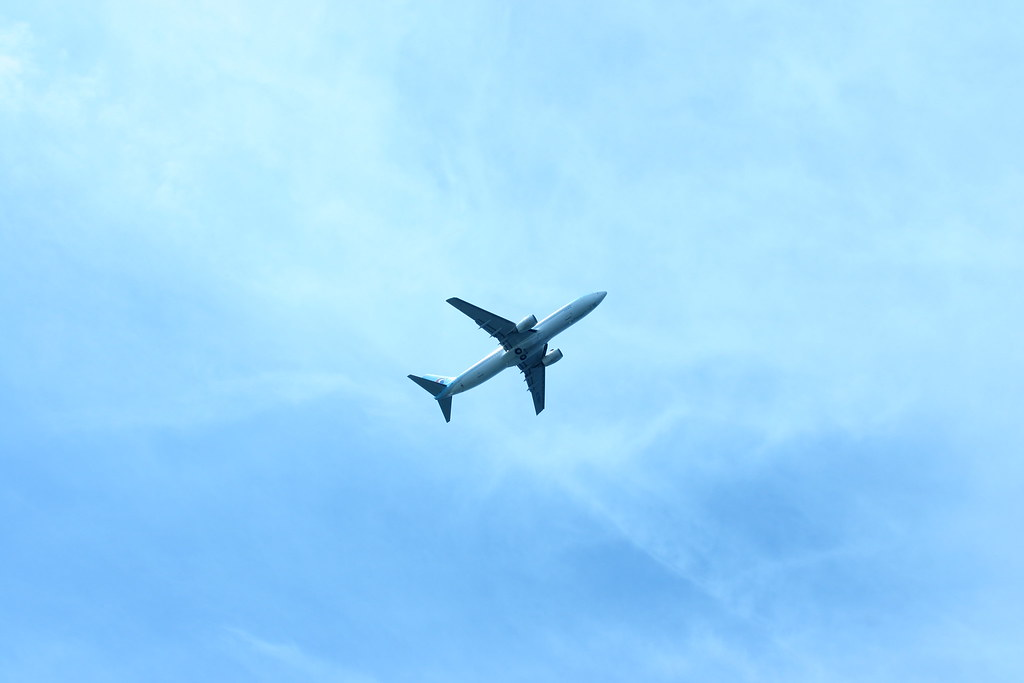aeroplane: (384, 235, 645, 455)
